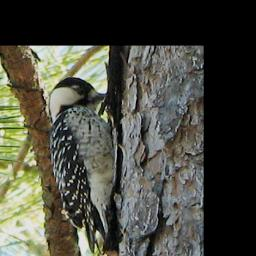Woodpecker: (48, 76, 119, 256)
